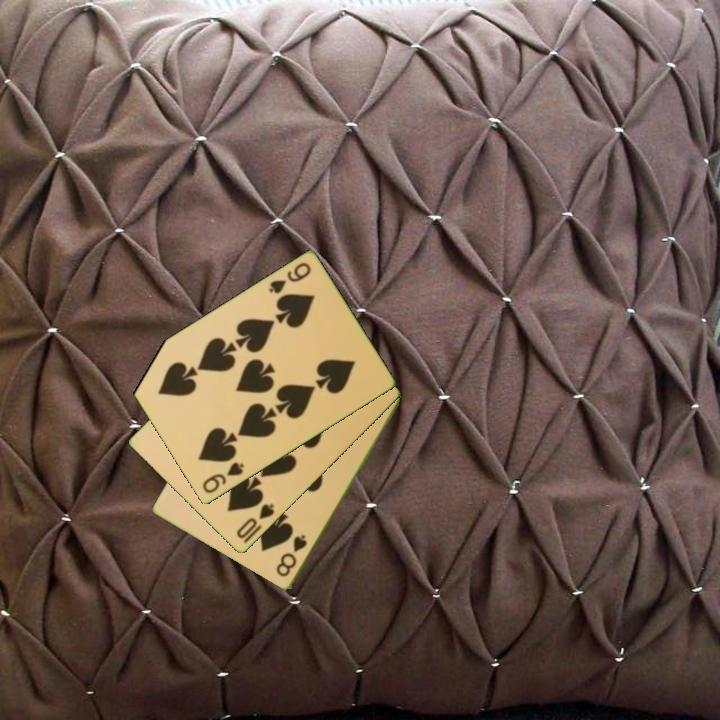10s: (233, 500, 278, 542)
8s: (273, 531, 310, 580)
9s: (265, 259, 314, 297), (199, 459, 247, 497)
